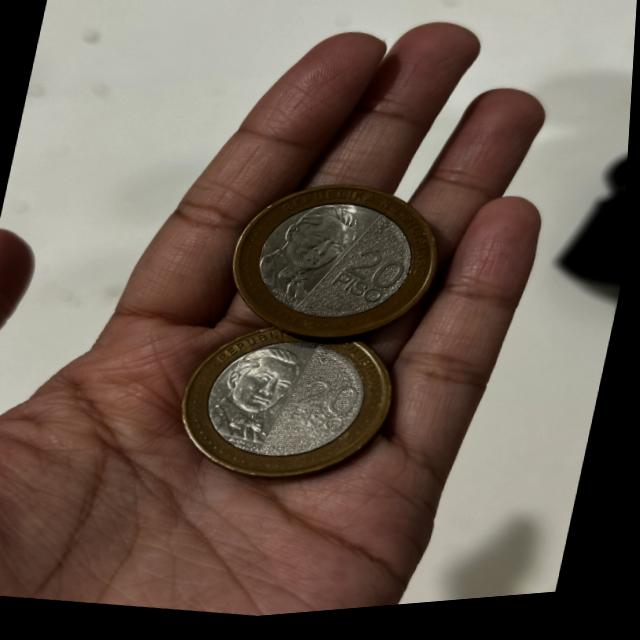20_New_Front: (334, 243, 412, 319), (293, 375, 362, 451)
